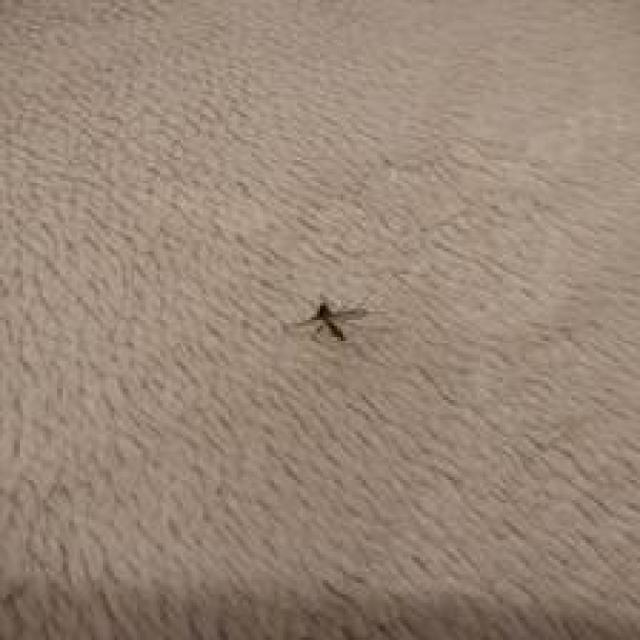Culex: (286, 296, 368, 344)
